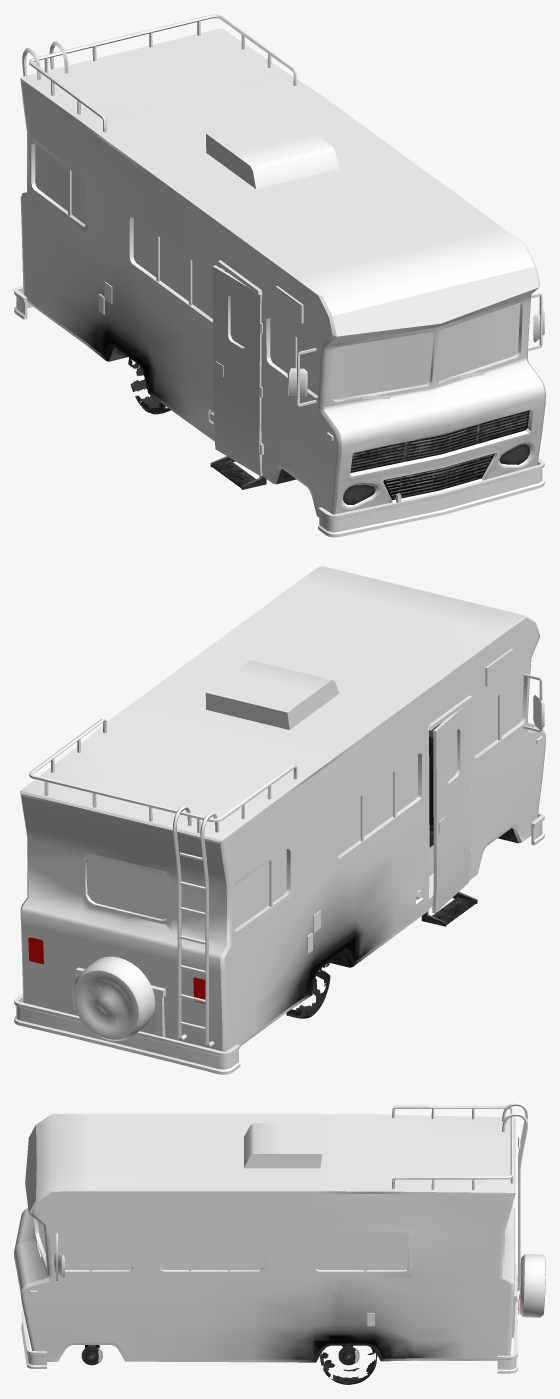
The picture shows the model from 3 angles, top to bottom: view 1: azimuth 30°, elevation 25°; view 2: azimuth 150°, elevation 25°; view 3: azimuth 270°, elevation 25°; orthographic projection. The views are drawn at different scales.
Visible parts, largest first — view 1: Body_Duco, Body_Chrome, Body_Glass, Body_Matte; view 2: Body_Duco, Body_Chrome, Body_Glass, Body_Matte, BrakeLights; view 3: Body_Duco, Body_Chrome, Body_Glass.
Part boxes in pixels (x1,y1,x2,y2): Body_Duco: (20, 28, 544, 513); Body_Chrome: (14, 14, 545, 537); Body_Glass: (35, 144, 520, 399); Body_Matte: (109, 271, 529, 504); Body_Duco: (20, 566, 544, 1051); Body_Chrome: (14, 616, 545, 1074); Body_Glass: (87, 677, 523, 929); Body_Matte: (330, 722, 517, 967); BrakeLights: (28, 937, 205, 1003); Body_Duco: (14, 1113, 545, 1359); Body_Chrome: (14, 1103, 527, 1373); Body_Glass: (37, 1221, 408, 1269).
Size of what is drawn, in the model's own units: 2.35 by 2.5 by 5.52.
